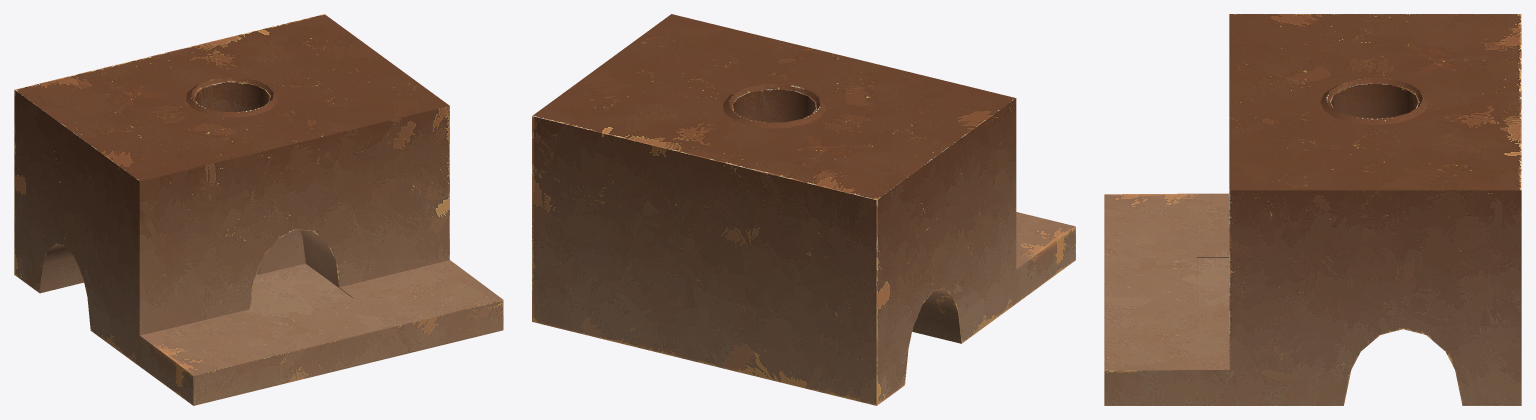
Rendered from Stove_lvl0.fbx.
3 renders of one model, left to right at view 1: azimuth 30°, elevation 25°; view 2: azimuth 150°, elevation 25°; view 3: azimuth 270°, elevation 25°, orthographic. The views are drawn at different scales.
Parts seen in each view (by area): view 1: Stove; view 2: Stove; view 3: Stove.
Boxes of the visible parts, x1,y1,x2,y2 form: Stove: (14,14,503,405); Stove: (532,14,1075,405); Stove: (1104,14,1521,405).
Size of the model in its own units: 200 by 116 by 200.
